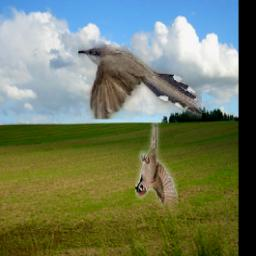Cuckoo: (78, 46, 202, 120)
Sparrow: (135, 123, 178, 222)
